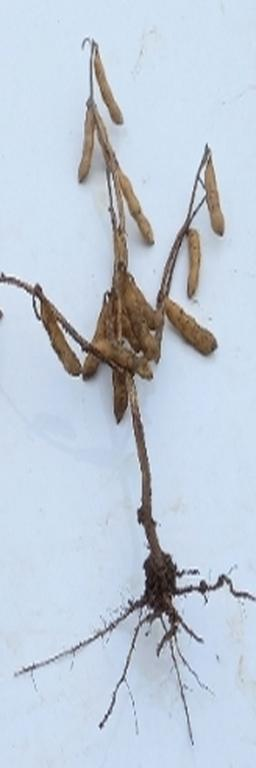pod: (165, 298, 220, 361), (121, 170, 157, 247), (95, 47, 128, 125), (203, 160, 230, 239), (76, 107, 95, 187), (186, 230, 202, 297)
soy: (29, 37, 237, 630)
